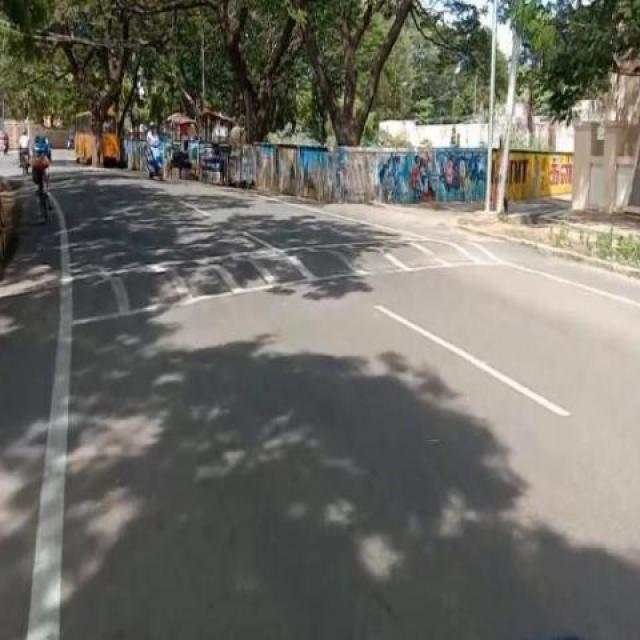Speed Bump: (0, 235, 541, 336)
